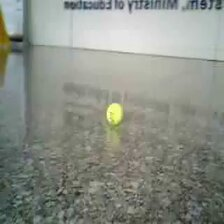tennis: (105, 103, 123, 125)
